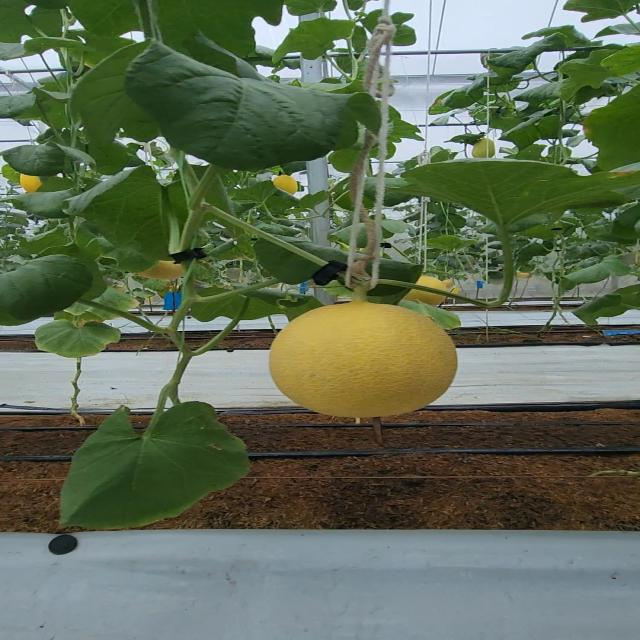Front-melon: (268, 300, 458, 416)
